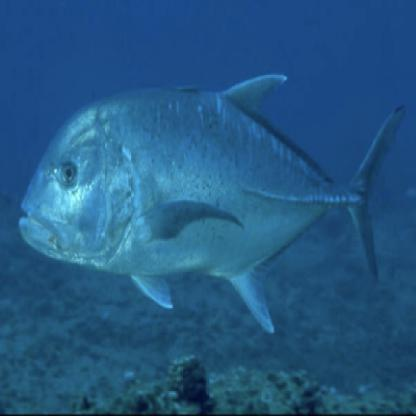jack: (19, 65, 408, 337)
